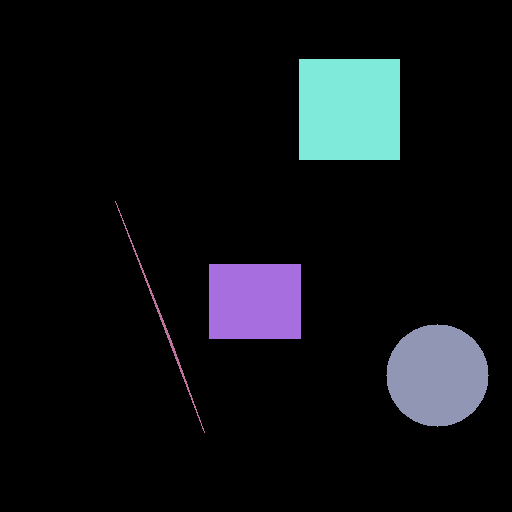circle: (386, 324, 488, 426)
rectangle: (209, 264, 300, 338)
square: (299, 59, 399, 159)
